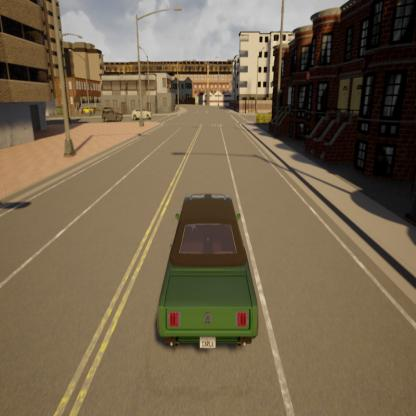Cars: (145, 177, 270, 350), (131, 101, 154, 124), (98, 106, 124, 123)
